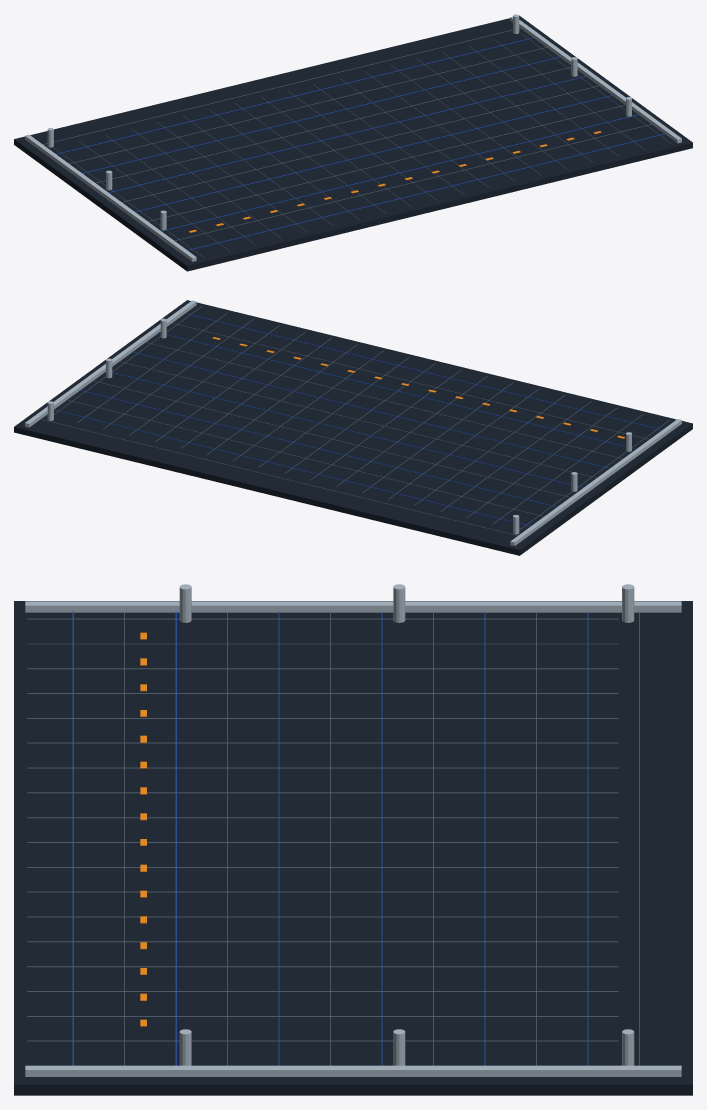
Rendered from 00_L87_GravityQualificationArenaBase.fbx.
3 views of the same model, one above another, from view 1: azimuth 30°, elevation 25°; view 2: azimuth 150°, elevation 25°; view 3: azimuth 270°, elevation 25° (orthographic). The views are drawn at different scales.
Visible parts, largest first — view 1: L87_GravityQualificationArenaBase; view 2: L87_GravityQualificationArenaBase; view 3: L87_GravityQualificationArenaBase.
Boxes of the visible parts, x1,y1,x2,y2 form: L87_GravityQualificationArenaBase: (14, 14, 692, 271); L87_GravityQualificationArenaBase: (14, 300, 692, 555); L87_GravityQualificationArenaBase: (14, 584, 692, 1095).
Size of the model in its own units: 3000 by 129 by 1780.
